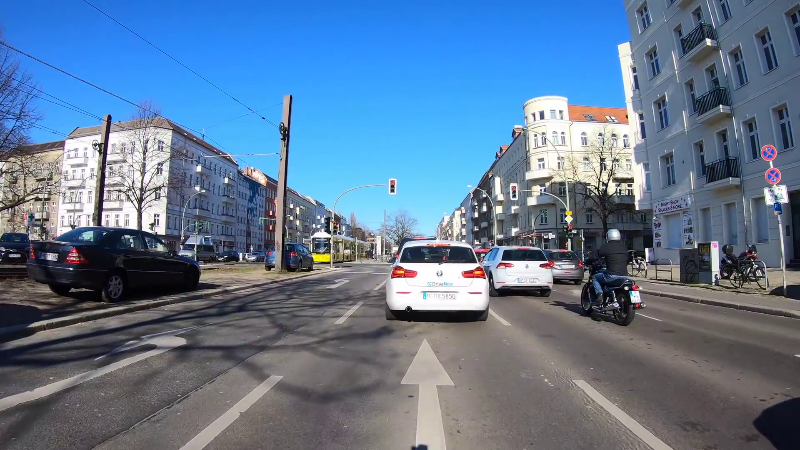Plate: (421, 290, 456, 300), (36, 249, 60, 262), (515, 277, 540, 284)
